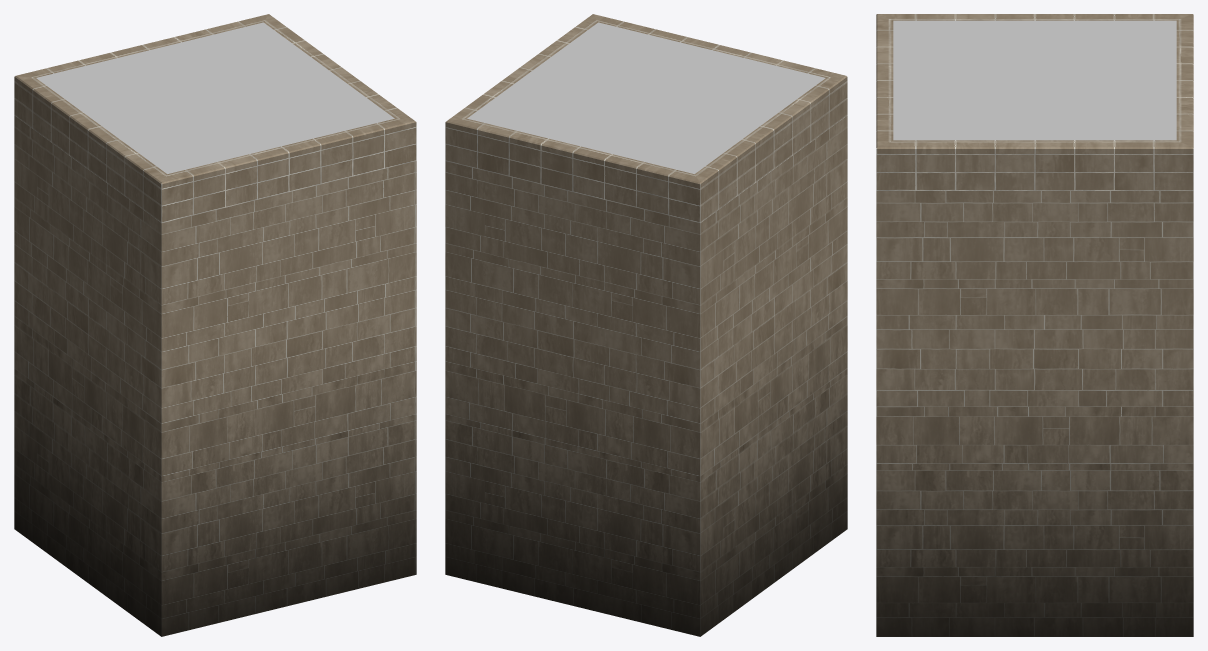
File: FloorPlatform.fbx
3 views of the same model, side by side, from view 1: azimuth 30°, elevation 25°; view 2: azimuth 150°, elevation 25°; view 3: azimuth 270°, elevation 25° (orthographic). The views are drawn at different scales.
Visible parts, largest first — view 1: FloorPlatform; view 2: FloorPlatform; view 3: FloorPlatform.
Part boxes in pixels (box(x1,y1,x2,y2)): FloorPlatform: box(14, 14, 416, 636); FloorPlatform: box(445, 14, 847, 636); FloorPlatform: box(876, 14, 1193, 636).
Bounding box in the file's own units: 500 × 850 × 500.
